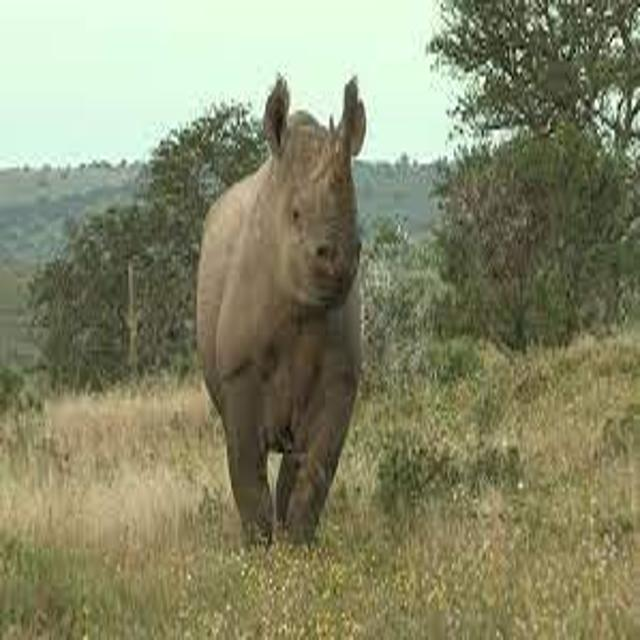rhino: (148, 44, 421, 564)
